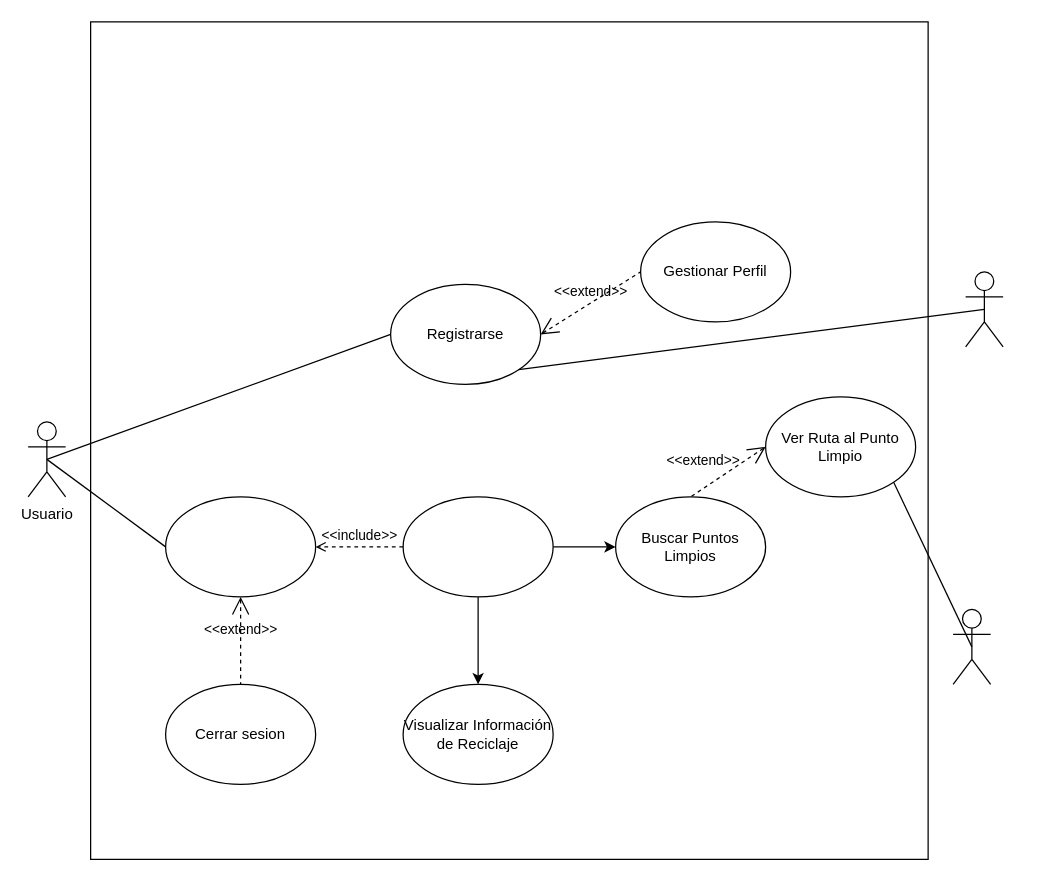
The diagram is 1055 pixels wide and 881 high, and some of its shapes have lost their labels. The shapes that lost their labels are listed below. From the top down, each one's box as (x1, y1, x2, y2) in pixels, then its label:
(964, 271, 1003, 347): Base de datos
(164, 496, 316, 597): Iniciar sesion
(402, 496, 553, 597): Consultar material
(952, 608, 991, 684): Sistema de mapas
